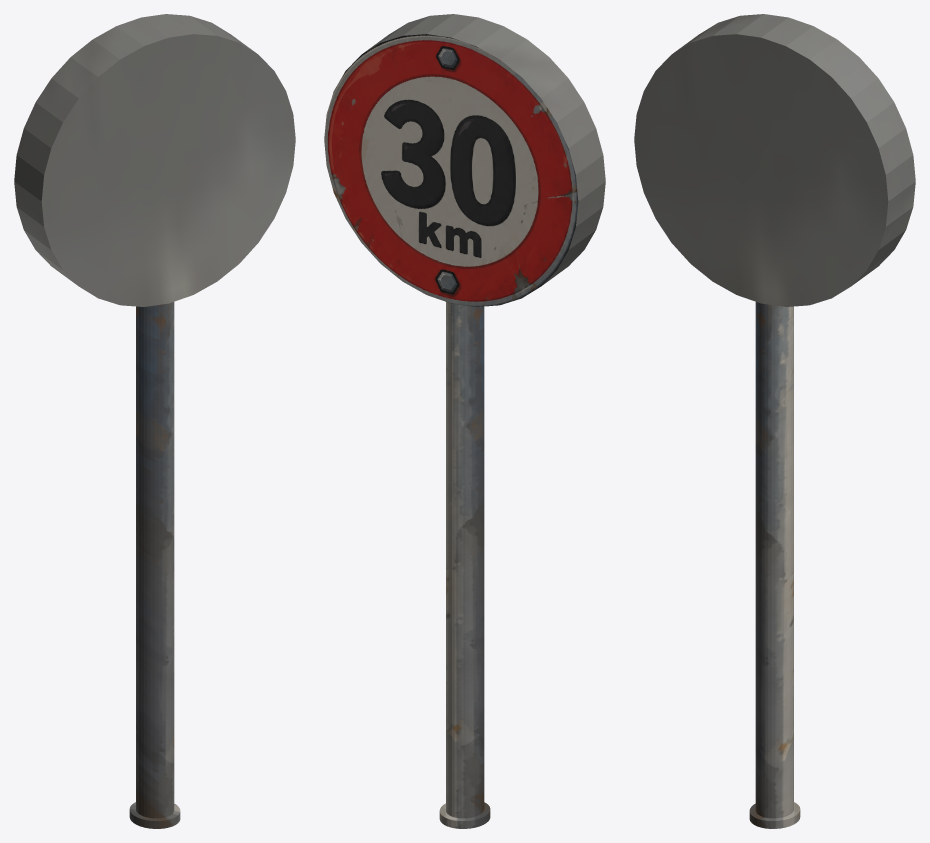
Rendered from 30km tabelası.fbx.
3 renders of one model, left to right at view 1: azimuth 30°, elevation 25°; view 2: azimuth 150°, elevation 25°; view 3: azimuth 330°, elevation 25°, orthographic.
Parts seen in each view (by area): view 1: Circle; view 2: Circle; view 3: Circle.
Boxes of the visible parts, left/top/right/bottom form: Circle: left=14, top=14, right=295, bottom=828; Circle: left=324, top=14, right=605, bottom=828; Circle: left=634, top=14, right=915, bottom=828.
Bounding box in the file's own units: 116 × 344 × 21.72.
1 material, 1 textured.
